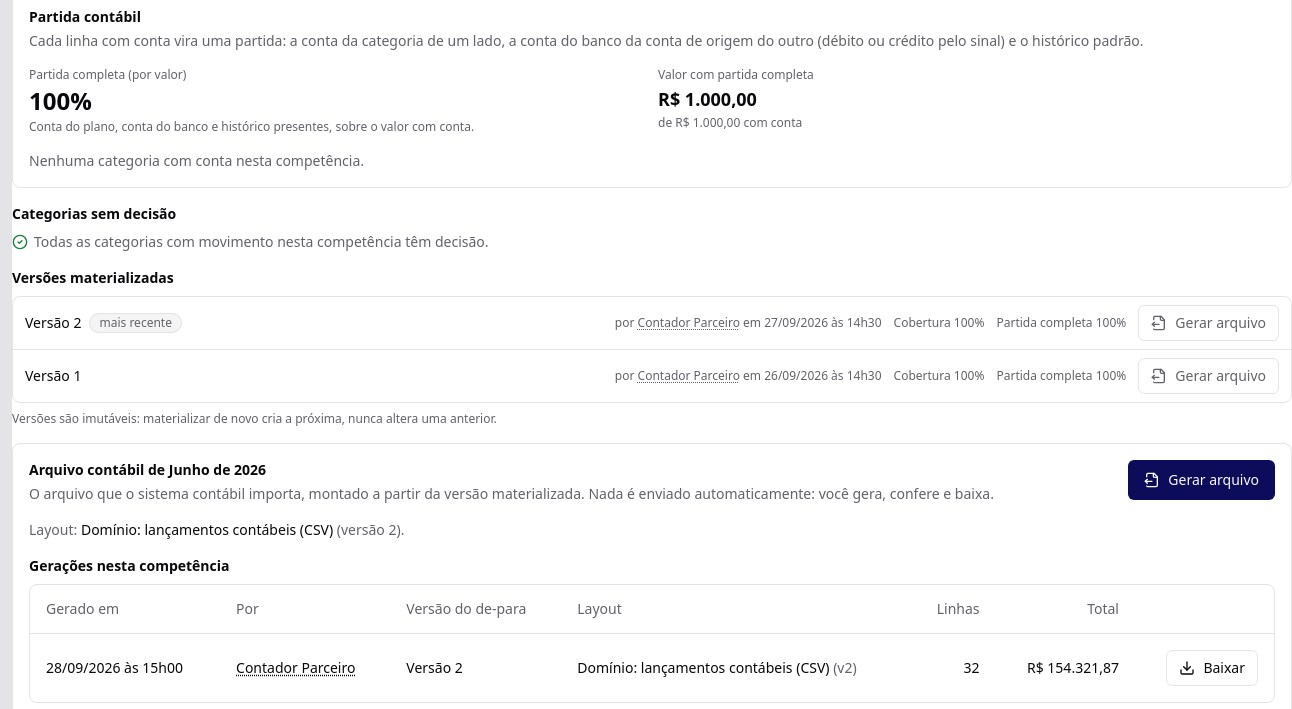
Test: recusas 409 como ESTADO, nunca toast › cobertura parcial: mensagem e os códigos das categorias
(page scrolled)
Click the button "Gerar arquivo" in the row of "Arquivo contábil de".
click(1202, 480)  # box [1128, 460, 1275, 500]
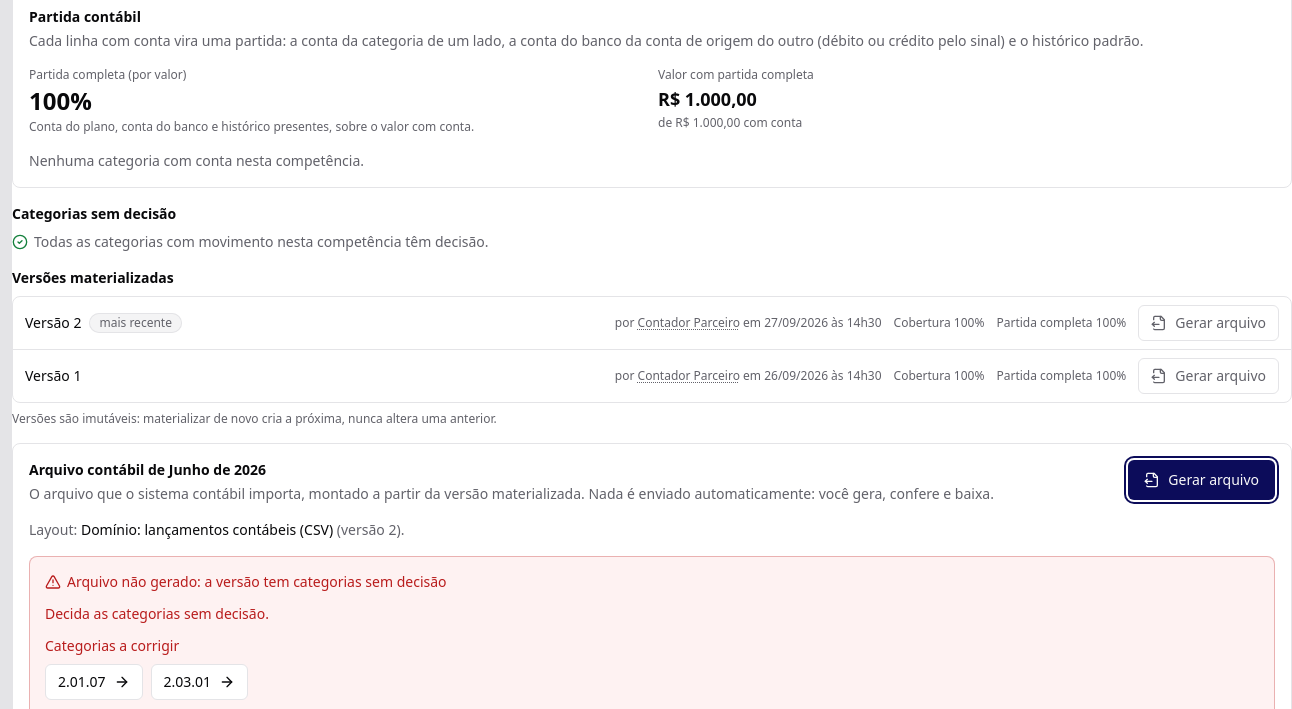
Expected: the message with test id "accounting-file-refusal" shows "Decida as categorias sem decisão.", [45, 604, 269, 623]
Expected: the list named "Categorias a corrigir" shows "2.01.07", [45, 664, 142, 700]
Expected: the list named "Categorias a corrigir" shows "2.03.01", [150, 664, 248, 700]
